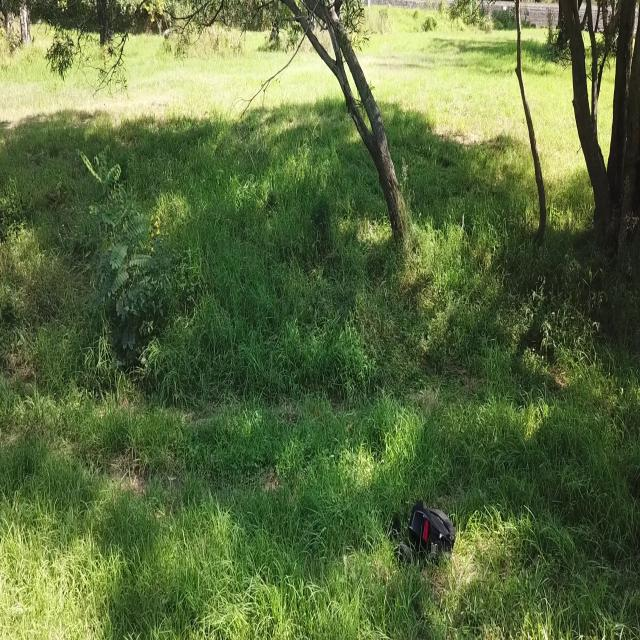Mysore-Thorn-Weed: (71, 142, 167, 356)
